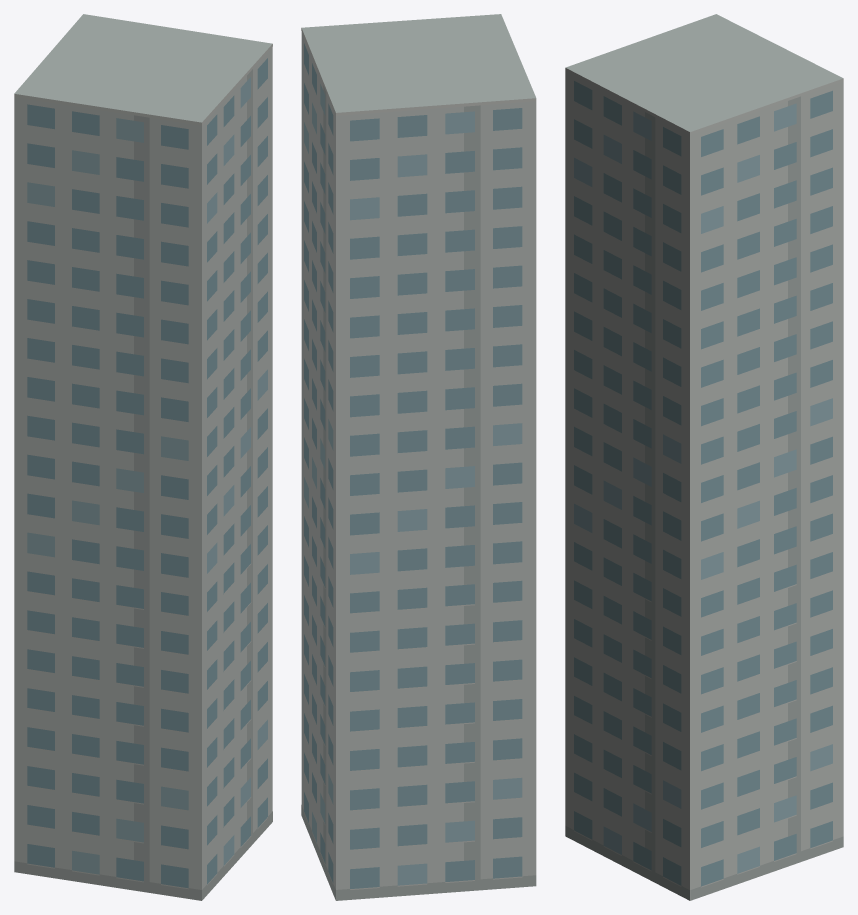
Rendered from survey-upis-32704483.glb.
3 views of the same model, side by side, from view 1: azimuth 30°, elevation 25°; view 2: azimuth 150°, elevation 25°; view 3: azimuth 270°, elevation 25° (orthographic). The views are drawn at different scales.
Visible parts, largest first — view 1: survey-upis-32704483.tmp; view 2: survey-upis-32704483.tmp; view 3: survey-upis-32704483.tmp.
Part boxes in pixels (x1,y1,x2,y2): survey-upis-32704483.tmp: [14, 14, 272, 900]; survey-upis-32704483.tmp: [301, 14, 536, 900]; survey-upis-32704483.tmp: [565, 14, 843, 900].
Bounding box in the file's own units: 20.13 × 61 × 20.02.
